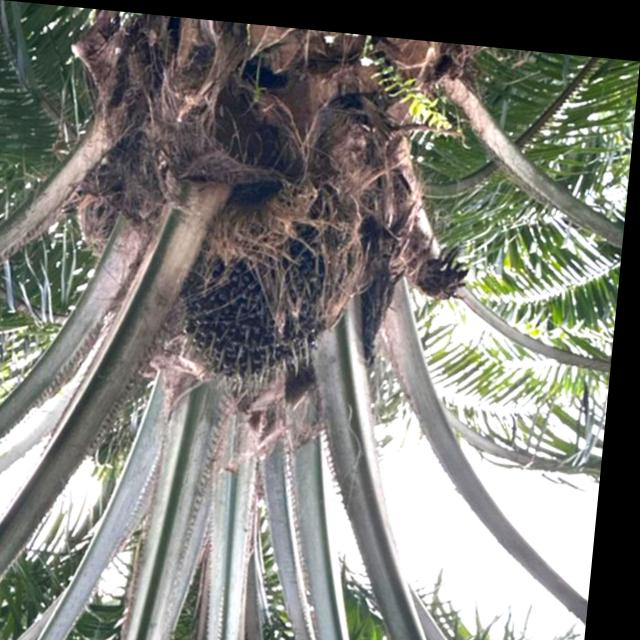almost: (165, 163, 377, 394)
